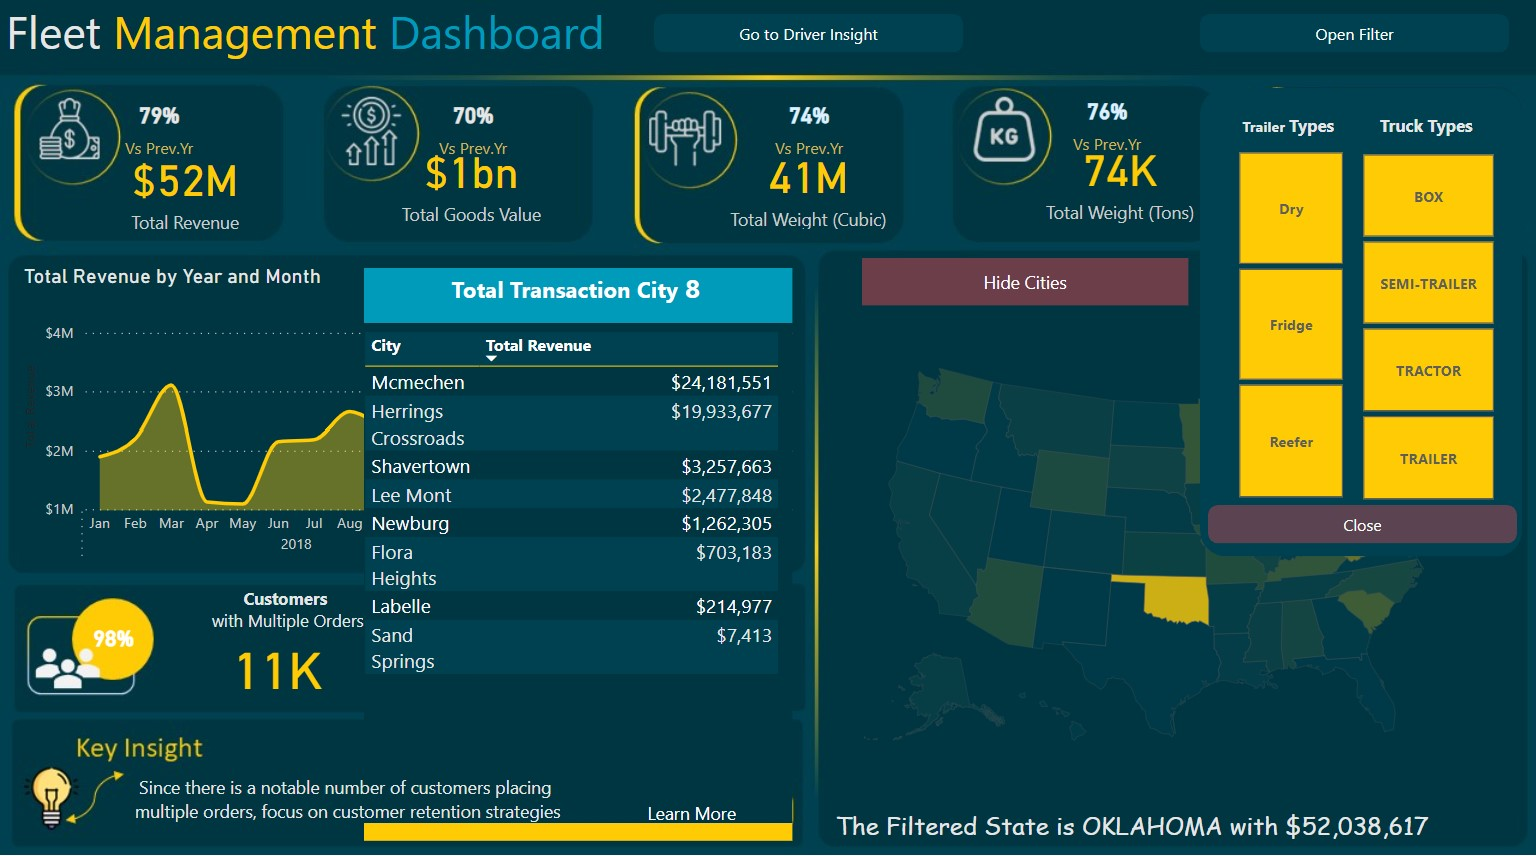

This screenshot's page, from the dashboard's own definition file:
{"tool":"powerbi","page":{"name":"Revenue Insight","canvas":[1280,720],"ordinal":2},"visuals":[{"type":"card","fields":{"Values":["Revenue Insight Measures.Total Revenue"]},"box":[69.9,122.4,168.5,81.1],"z":0},{"type":"actionButton","title":"Show","box":[718.4,220.1,271.8,39.7],"z":0,"group":"g1"},{"type":"actionButton","title":"Show","box":[500.1,662.5,152.6,36.6],"z":0,"group":"g2"},{"type":"card","fields":{"Values":["Revenue Insight Measures.Total Goods Value"]},"box":[298.8,109.7,189.1,90.6],"z":1000},{"type":"card","fields":{"Values":["Revenue Insight Measures.Total Weight (Cubic)"]},"box":[578.5,117.6,190.7,82.6],"z":2000},{"type":"card","fields":{"Values":["Revenue Insight Measures.Total Weight (Tons)"]},"box":[848.7,106.5,170.1,93.8],"z":3000},{"type":"card","fields":{"Values":["Revenue Insight Measures.Total Deliver Orders"]},"box":[1063.3,106.5,216.2,98.5],"z":4000},{"type":"card","fields":{"Values":["Revenue Insight Measures.(%) YoY Growth Revenue"]},"box":[79.5,77.9,104.9,63.6],"z":5000},{"type":"card","fields":{"Values":["Revenue Insight Measures.(%) YoY Growth Goods Value"]},"box":[341.7,77.9,104.9,63.6],"z":6000},{"type":"card","fields":{"Values":["Revenue Insight Measures.(%) YoY Growth Weight Cubic"]},"box":[621.5,77.9,104.9,63.6],"z":7000},{"type":"card","fields":{"Values":["Revenue Insight Measures.(%) YoY Growth Goods Weights Tons"]},"box":[869.4,74.7,104.9,63.6],"z":8000},{"type":"card","fields":{"Values":["Revenue Insight Measures.(%) YoY Growth Goods Delivery"]},"box":[1114.2,77.9,104.9,63.6],"z":9000},{"type":"card","fields":{"Values":["Revenue Insight Measures.Customers with Multiple Orders"]},"box":[131.9,516.6,198.7,84.2],"z":10000},{"type":"card","fields":{"Values":["Revenue Insight Measures.Customers with One Order"]},"box":[457.7,516.6,216.2,84.2],"z":11000},{"type":"card","fields":{"Values":["Revenue Insight Measures.% of Repeat Customers"]},"box":[68.3,516.6,52.5,39.7],"z":12000},{"type":"card","fields":{"Values":["Revenue Insight Measures.% of One-Time Customers"]},"box":[398.9,516.6,47.7,39.7],"z":13000},{"type":"areaChart","fields":{"Category":["DateTable.Months.Year","DateTable.Months.Month","DateTable.Months.Quarter"],"Y":["Revenue Insight Measures.Total Revenue"]},"box":[14.3,225.7,651.7,254.3],"z":14000},{"type":"shapeMap","fields":{"Category":["STATES.Full Name"],"Value":["Revenue Insight Measures.Total Revenue"]},"box":[686.6,225.7,580.1,483.2],"z":15000},{"type":"textbox","box":[124,487.9,228.9,57.2],"z":16000},{"type":"textbox","box":[446.6,487.9,227.3,57.2],"z":17000},{"type":"textbox","box":[1004.5,225.7,243.2,57.2],"z":18000},{"type":"textbox","box":[0,0,640.5,62],"z":19000},{"type":"shape","box":[999.7,15.9,257.5,31.8],"z":20000},{"type":"shape","box":[545.2,15.9,257.5,31.8],"z":22000},{"type":"group","id":"g1","title":"Btn group","box":[718.4,220.1,271.8,39.7],"z":24000},{"type":"card","fields":{"Values":["Revenue Insight Measures.Current MapFilter"]},"box":[653.2,666,580.1,54],"z":25000},{"type":"textbox","box":[95.4,645.3,389.4,63.6],"z":26000},{"type":"group","id":"g2","title":"Btn group","box":[457.7,662.5,271.8,39.7],"z":27000}]}

Visuals, with their boxes in screenshot pixels (x1, y1, x2, y2), scaled from the page's 1280x720 canvas onto the 1536x856 screenshot:
card - Revenue Insight Measures.Total Revenue: BBox(84, 146, 286, 242)
"Show" actionButton: BBox(862, 262, 1188, 309)
"Show" actionButton: BBox(600, 788, 783, 831)
card - Revenue Insight Measures.Total Goods Value: BBox(359, 130, 585, 238)
card - Revenue Insight Measures.Total Weight (Cubic): BBox(694, 140, 923, 238)
card - Revenue Insight Measures.Total Weight (Tons): BBox(1018, 127, 1223, 238)
card - Revenue Insight Measures.Total Deliver Orders: BBox(1276, 127, 1535, 244)
card - Revenue Insight Measures.(%) YoY Growth Revenue: BBox(95, 93, 221, 168)
card - Revenue Insight Measures.(%) YoY Growth Goods Value: BBox(410, 93, 536, 168)
card - Revenue Insight Measures.(%) YoY Growth Weight Cubic: BBox(746, 93, 872, 168)
card - Revenue Insight Measures.(%) YoY Growth Goods Weights Tons: BBox(1043, 89, 1169, 164)
card - Revenue Insight Measures.(%) YoY Growth Goods Delivery: BBox(1337, 93, 1463, 168)
card - Revenue Insight Measures.Customers with Multiple Orders: BBox(158, 614, 397, 714)
card - Revenue Insight Measures.Customers with One Order: BBox(549, 614, 809, 714)
card - Revenue Insight Measures.% of Repeat Customers: BBox(82, 614, 145, 661)
card - Revenue Insight Measures.% of One-Time Customers: BBox(479, 614, 536, 661)
areaChart - DateTable.Months.Year x DateTable.Months.Month: BBox(17, 268, 799, 571)
shapeMap - STATES.Full Name x Revenue Insight Measures.Total Revenue: BBox(824, 268, 1520, 843)
textbox: BBox(149, 580, 423, 648)
textbox: BBox(536, 580, 809, 648)
textbox: BBox(1205, 268, 1497, 336)
textbox: BBox(0, 0, 769, 74)
shape: BBox(1200, 19, 1509, 57)
shape: BBox(654, 19, 963, 57)
"Btn group" group: BBox(862, 262, 1188, 309)
card - Revenue Insight Measures.Current MapFilter: BBox(784, 792, 1480, 855)
textbox: BBox(114, 767, 582, 843)
"Btn group" group: BBox(549, 788, 875, 835)
